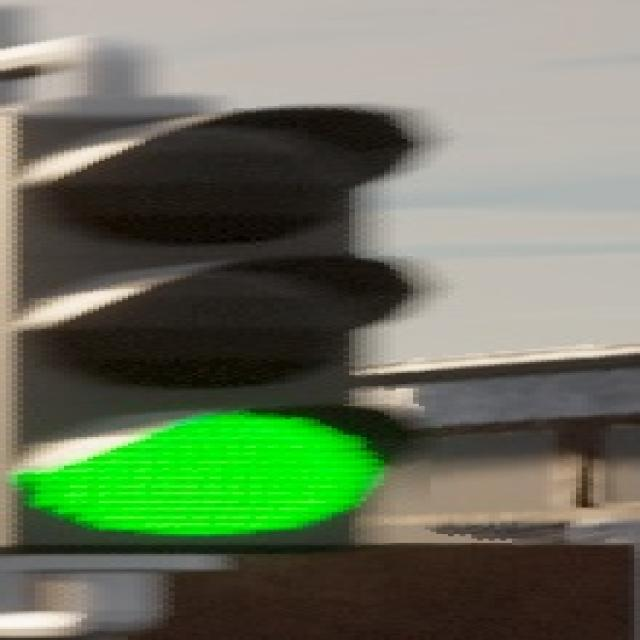green_light: (2, 110, 409, 555)
